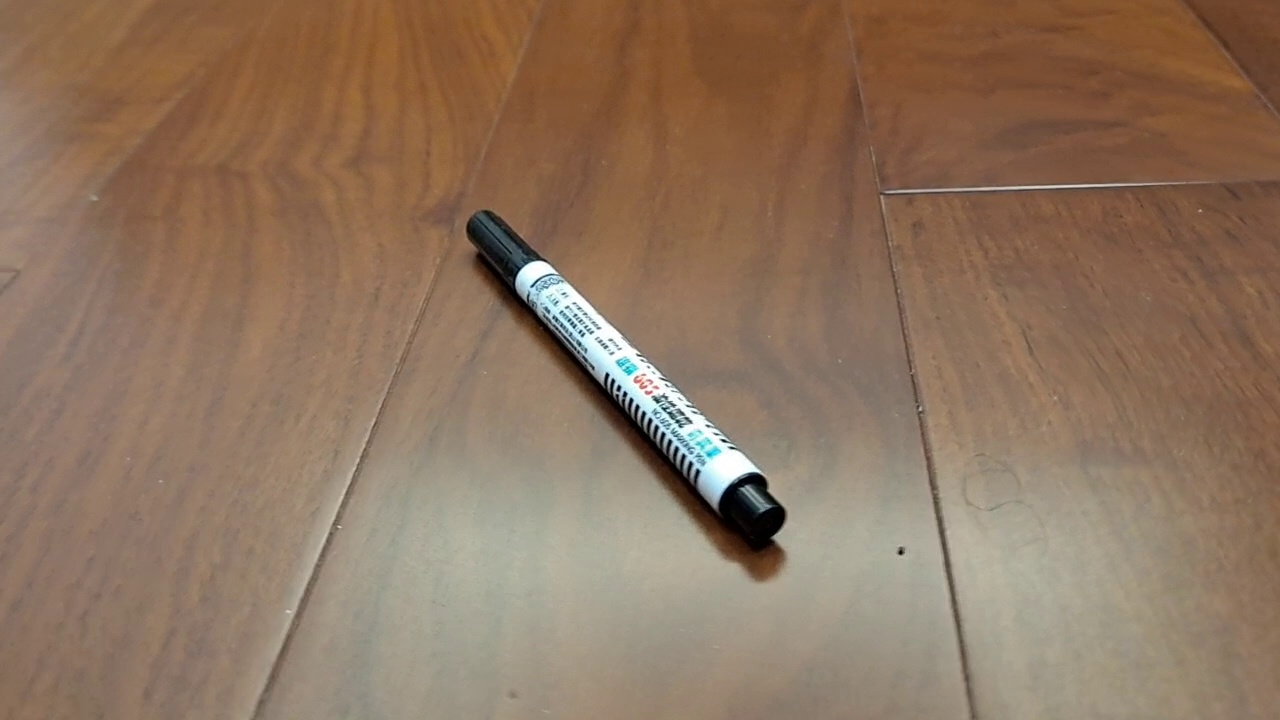pen: (466, 208, 787, 542)
